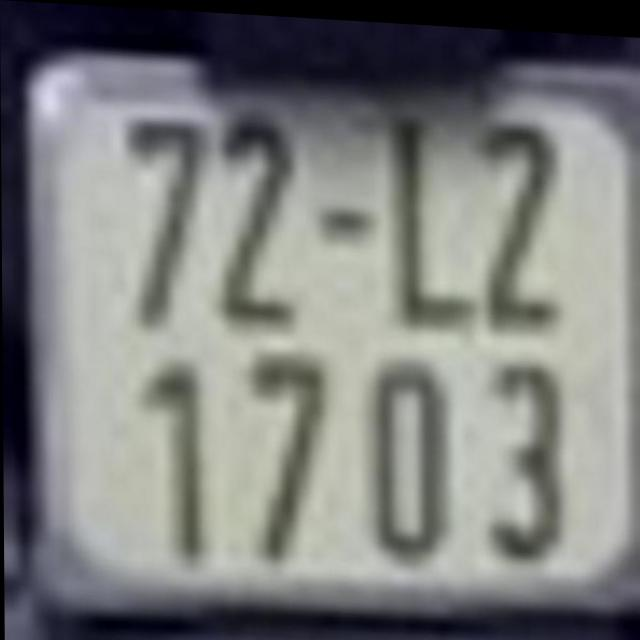0: (368, 352, 456, 553)
1: (137, 362, 215, 553)
2: (481, 103, 558, 315), (225, 106, 300, 323)
3: (497, 361, 564, 554)
7: (124, 107, 209, 330), (247, 342, 321, 558)
L: (386, 108, 476, 322)
